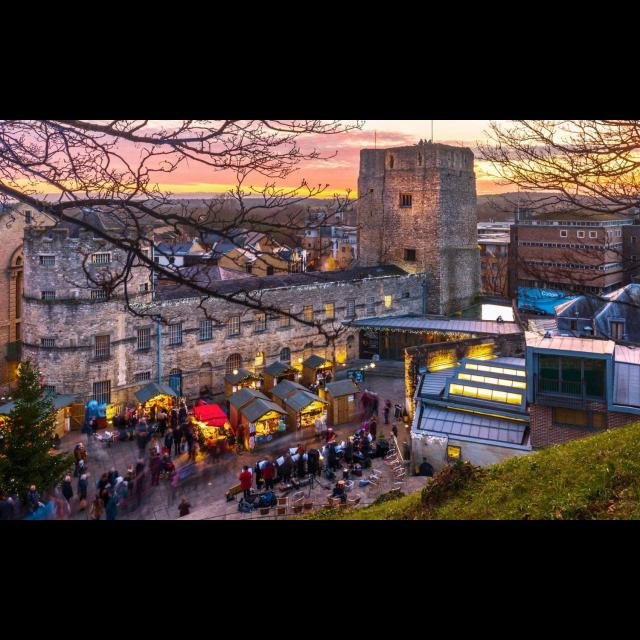head: (80, 474, 88, 482), (108, 489, 115, 497), (103, 472, 109, 480), (31, 485, 37, 491), (66, 477, 72, 483), (96, 495, 102, 501), (110, 467, 116, 473), (140, 459, 146, 465), (264, 456, 270, 462), (76, 445, 82, 449), (180, 404, 186, 408), (244, 466, 248, 472), (258, 461, 262, 467), (389, 432, 395, 436), (80, 468, 84, 472), (157, 454, 161, 458), (182, 500, 186, 504), (89, 421, 93, 425), (92, 417, 96, 421), (116, 413, 120, 417), (168, 430, 172, 434), (176, 426, 180, 430), (173, 407, 177, 411), (298, 445, 302, 449), (326, 445, 330, 449), (347, 438, 351, 442), (364, 433, 368, 437), (392, 424, 396, 428), (386, 400, 390, 404), (329, 430, 333, 434)
person: (132, 458, 148, 506), (94, 471, 112, 509), (149, 452, 167, 486), (238, 465, 255, 501), (261, 455, 277, 493), (76, 472, 90, 512), (61, 475, 74, 515), (73, 443, 87, 479), (340, 436, 356, 466), (78, 466, 90, 504), (162, 428, 176, 460), (172, 425, 184, 457), (254, 460, 266, 492), (324, 427, 338, 453), (359, 432, 371, 462), (108, 467, 120, 495), (381, 398, 392, 427), (294, 443, 306, 469), (322, 442, 332, 473), (87, 419, 97, 448), (390, 422, 400, 450), (178, 404, 188, 430), (389, 430, 399, 456), (90, 416, 98, 442), (170, 406, 178, 430), (112, 412, 120, 432)
